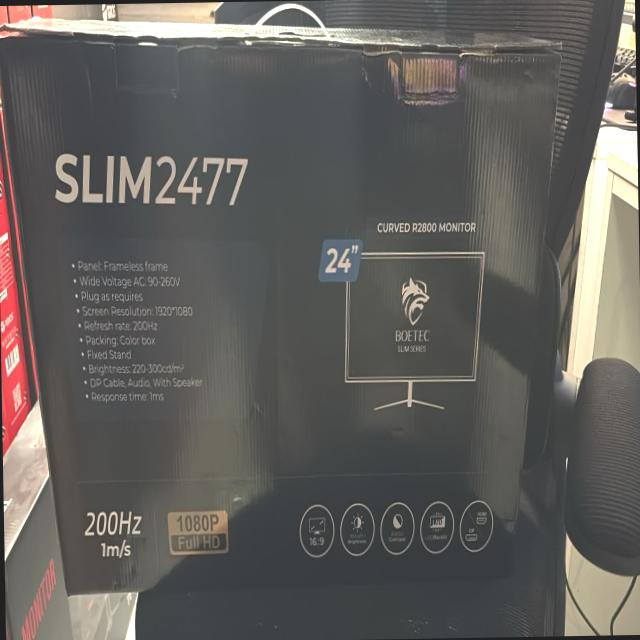caja-monitor: (3, 40, 559, 594)
